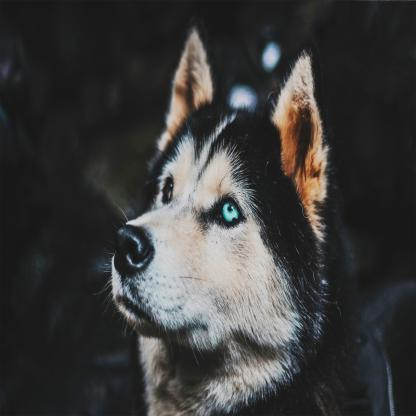husky: (110, 26, 330, 416)
